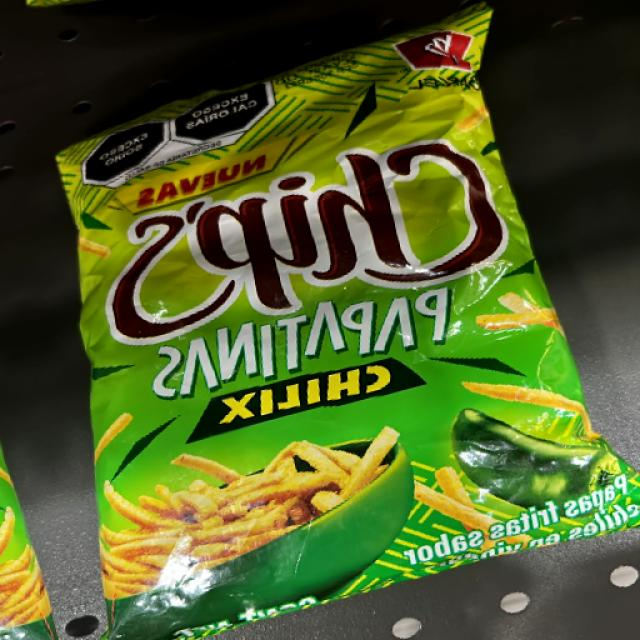chipsPapatinas: (115, 105, 532, 587)
